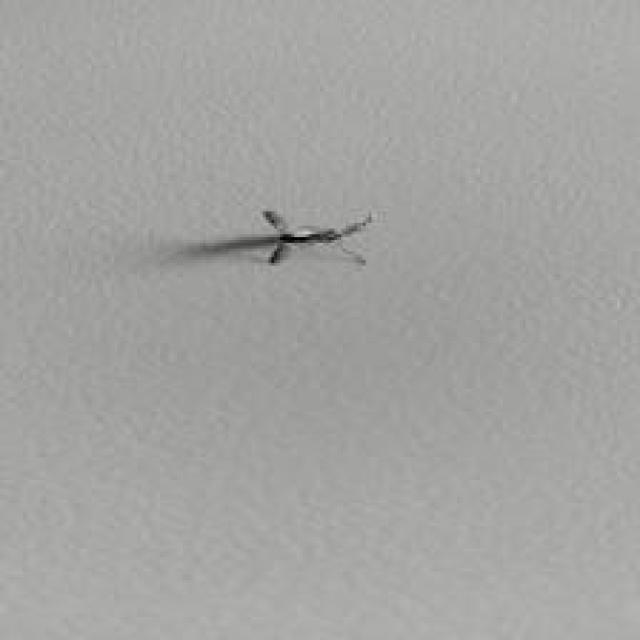Aedes albopictus: (192, 207, 374, 267)
